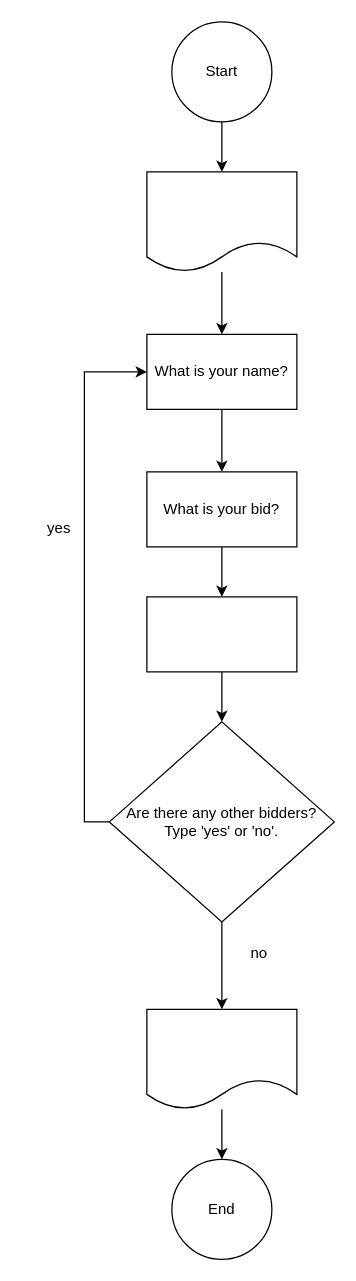
The diagram is 356 pixels wide and 1281 high, and some of its shapes have lost their labels. Each missing label, with the centre of its shape:
Add name and bid into a dictionary as the key and value.: the point at 221,634
Show the art logo: the point at 221,221
The winner is {name} with a bid of ${bid}: the point at 221,1058
